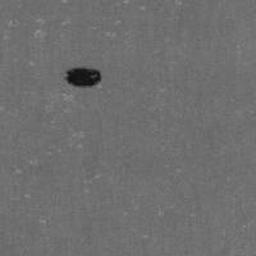Inclusion: (60, 67, 104, 88)
